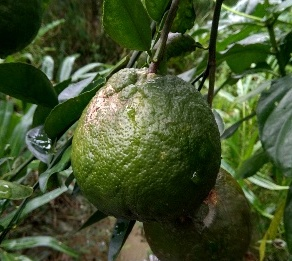Cam: (68, 67, 224, 223)
